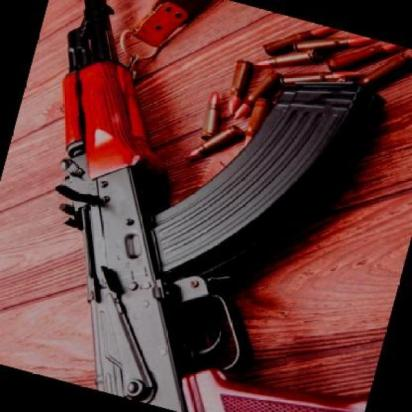Gun: (58, 0, 380, 393)
